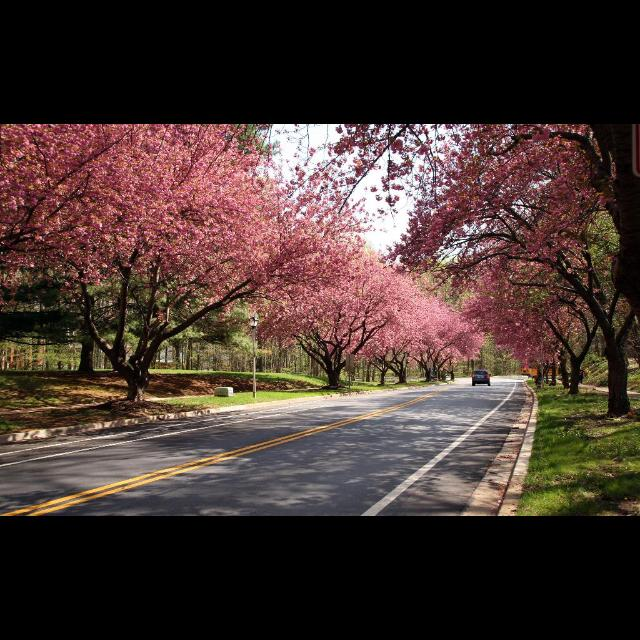Flower: (1, 124, 492, 333), (282, 124, 614, 364)
